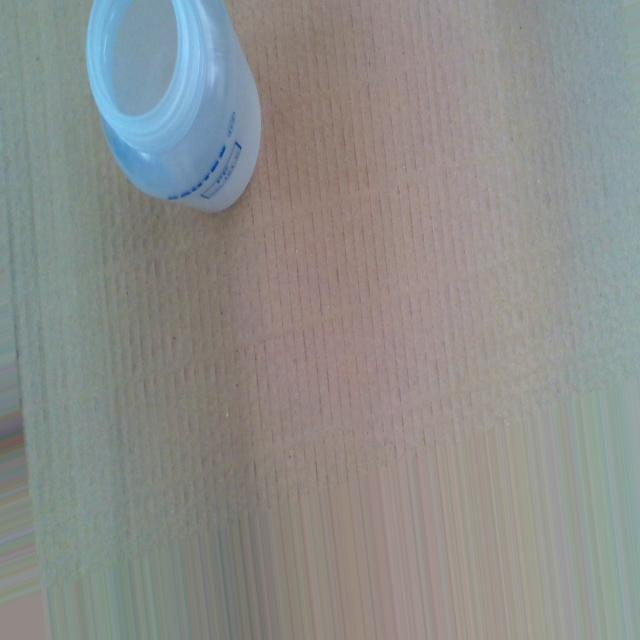bottle: (84, 0, 267, 215)
